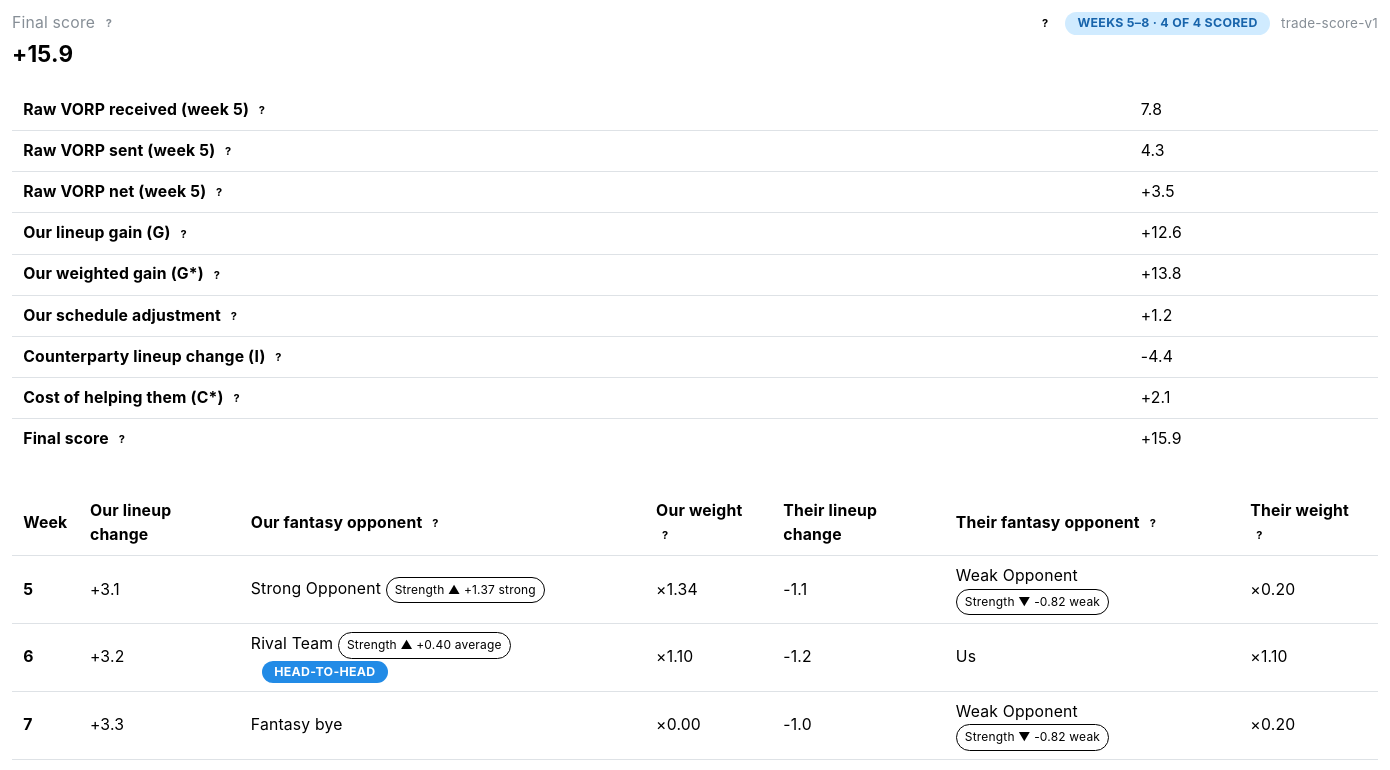
it: uses returned weights in What is our schedule adjustment?
The image size is (1390, 770).
Focus the button named "What is our schedule adjustment?": point(234, 316) [225,307,243,325]
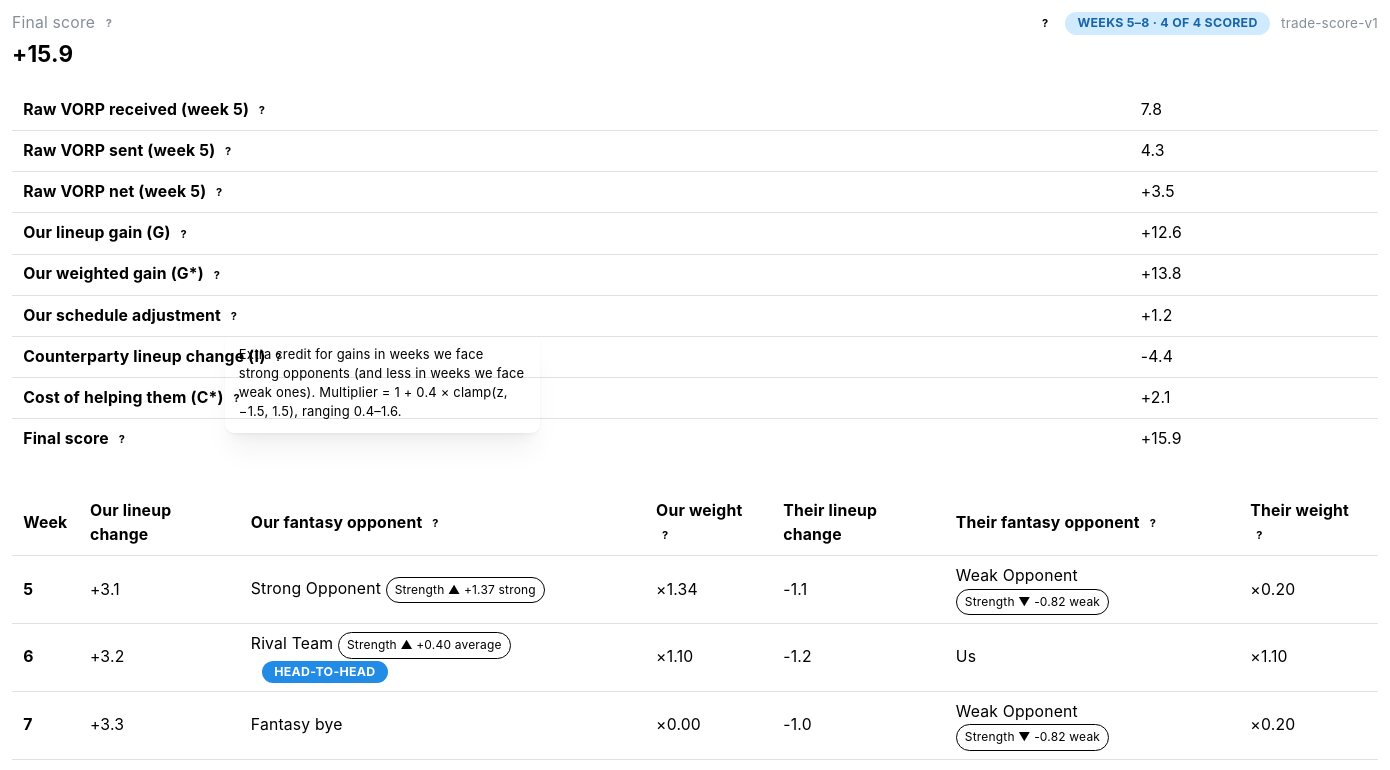
Expected: the tooltip shows "1 + 0.4 × clamp(z, −1.5, 1.5)", [239,346,524,419]
Expected: the tooltip shows "0.4–1.6", [239,346,524,419]
